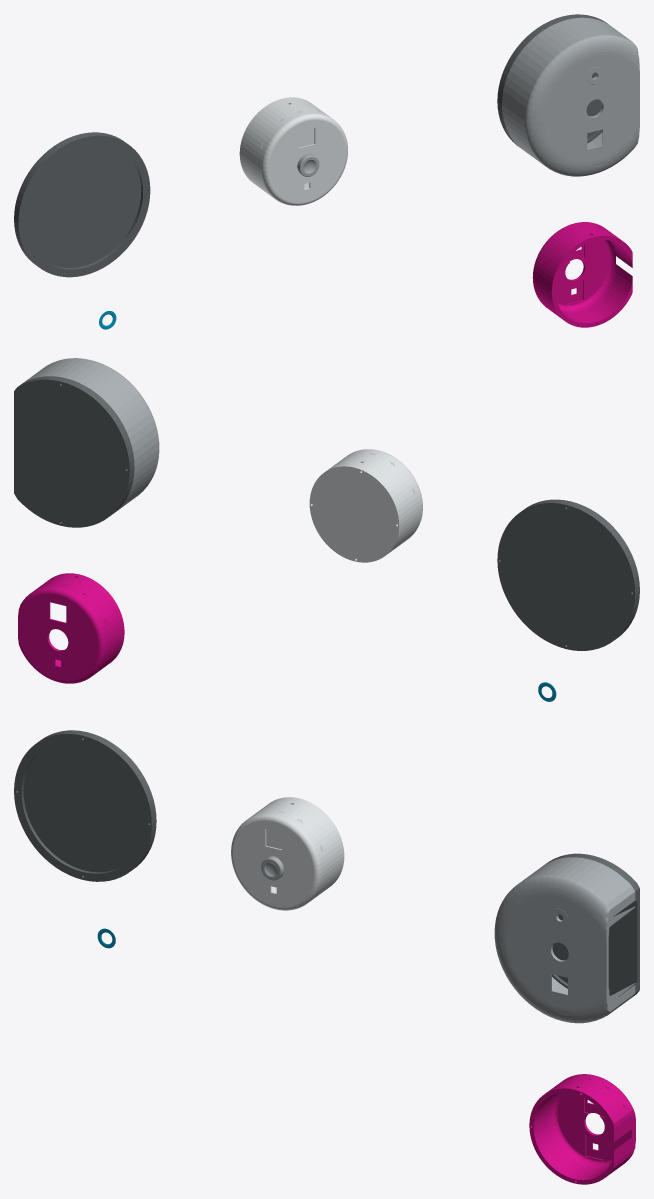
Rendered from tinker.obj.
The picture shows the model from 3 angles, top to bottom: view 1: azimuth 30°, elevation 25°; view 2: azimuth 150°, elevation 25°; view 3: azimuth 330°, elevation 25°; orthographic projection. The views are drawn at different scales.
Visible parts, largest first — view 1: group_10988977, group_6383466, group_14541540, group_14093196; view 2: group_6383466, group_14541540, group_14093196, group_10988977; view 3: group_6383466, group_10988977, group_14541540, group_14093196.
Boxes of the visible parts, x1=… form: group_10988977: x1=297, y1=17, x2=639, y2=176; group_6383466: x1=14, y1=14, x2=608, y2=277; group_14541540: x1=239, y1=97, x2=347, y2=205; group_14093196: x1=532, y1=222, x2=632, y2=327; group_6383466: x1=14, y1=376, x2=639, y2=650; group_14541540: x1=309, y1=449, x2=422, y2=562; group_14093196: x1=18, y1=573, x2=124, y2=683; group_10988977: x1=22, y1=358, x2=159, y2=512; group_6383466: x1=14, y1=730, x2=639, y2=996; group_10988977: x1=261, y1=856, x2=635, y2=1023; group_14541540: x1=231, y1=797, x2=344, y2=910; group_14093196: x1=529, y1=1074, x2=635, y2=1184.
Bounding box in the file's own units: 902 × 426 × 84.
